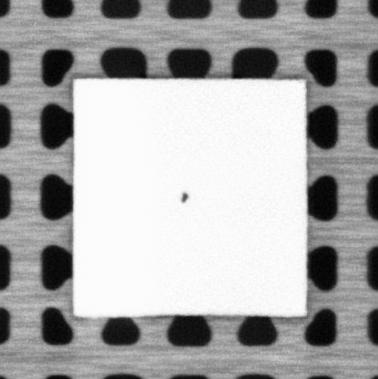DIE_INK: (177, 190, 189, 204)
